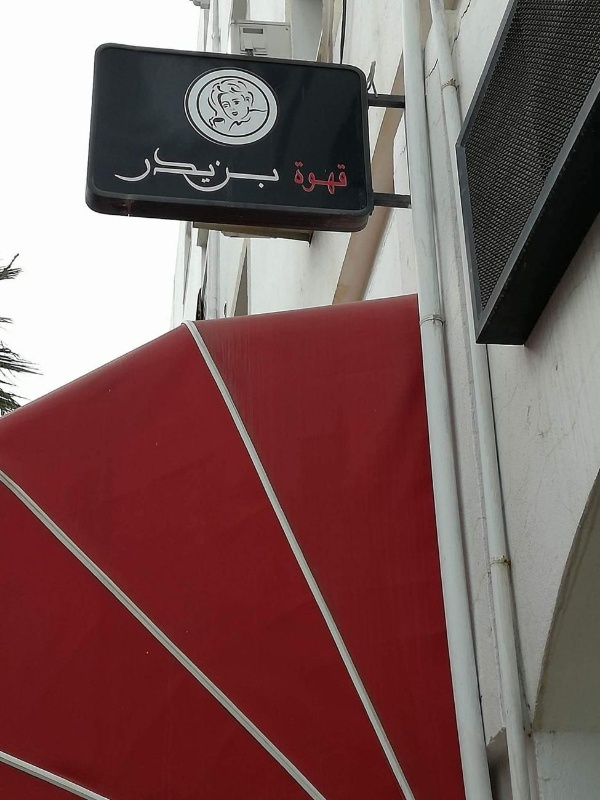text: (129, 143, 144, 197), (145, 143, 160, 197), (161, 143, 176, 197), (177, 143, 192, 197), (193, 143, 208, 197), (209, 143, 224, 197), (225, 143, 240, 197), (241, 143, 256, 197), (257, 143, 272, 197), (305, 161, 320, 196), (321, 161, 336, 196), (273, 143, 281, 197), (293, 161, 304, 196), (337, 161, 348, 196), (122, 143, 128, 197)
